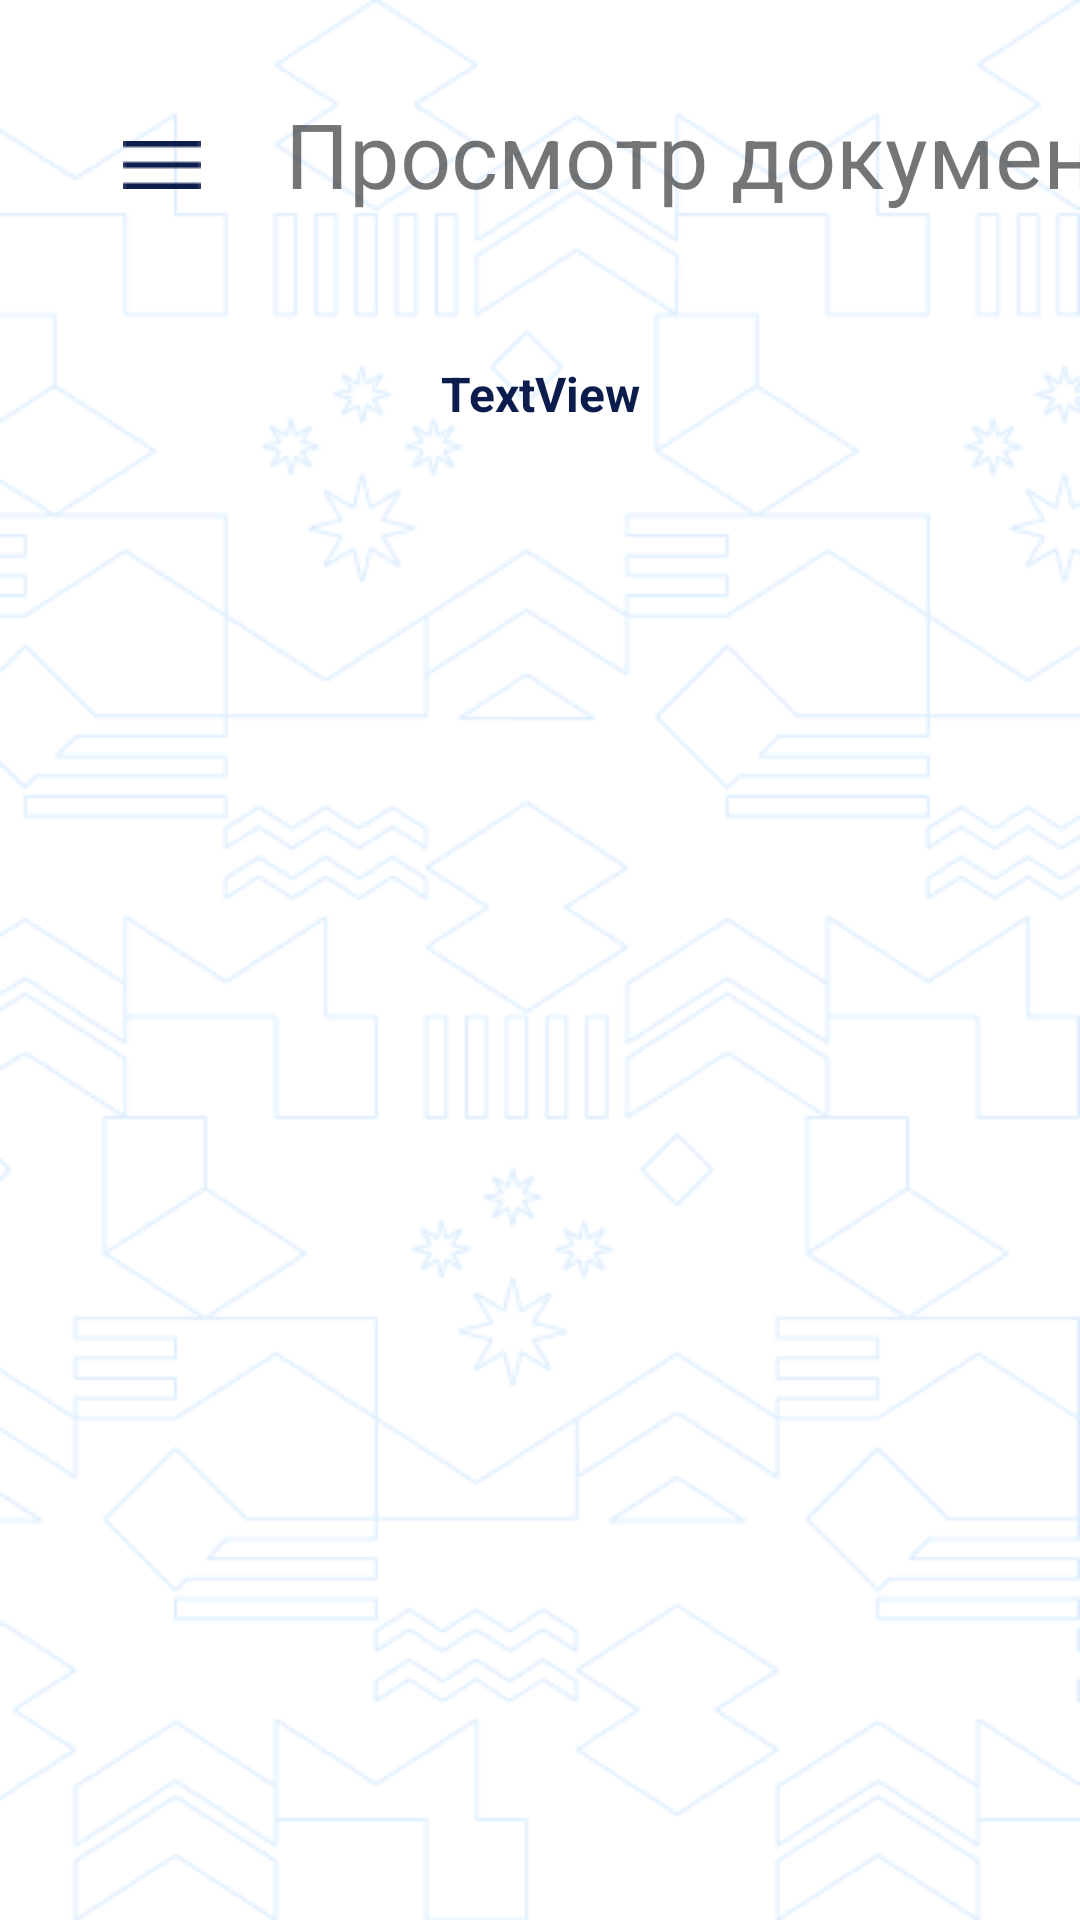

Locate icon controls on the screen. Image size 1080*1920, boxes as (x1, y1, x2, y2).
menu: (90, 115, 225, 216)
